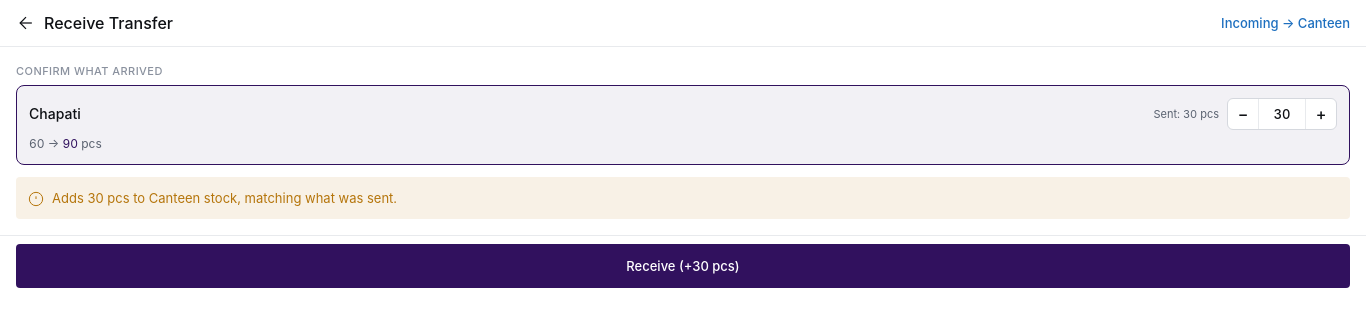
Test: /canteen/transfer/receive — kit composition › the resulting balance follows the stepper
This screenshot has width=1366, height=309.
Replace the text in the number field named "Chapati quantity" with "10" at (1282, 114), box [1274, 106, 1290, 122]
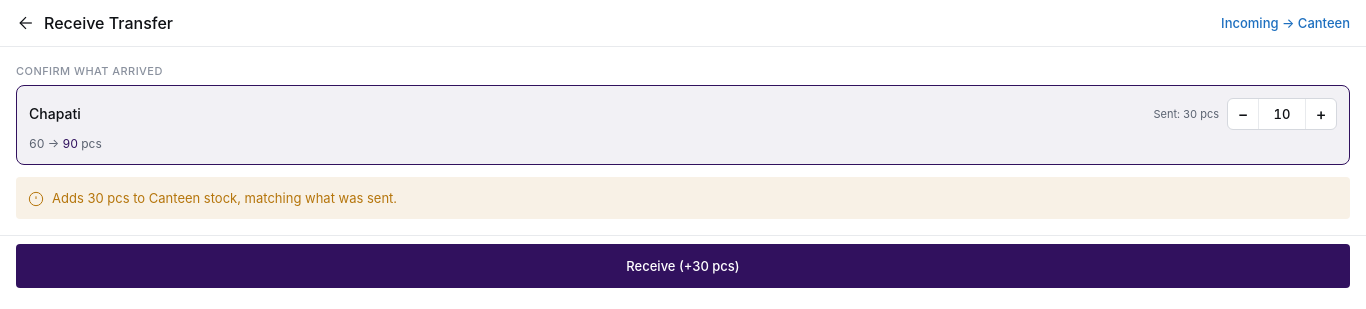
Press Tab
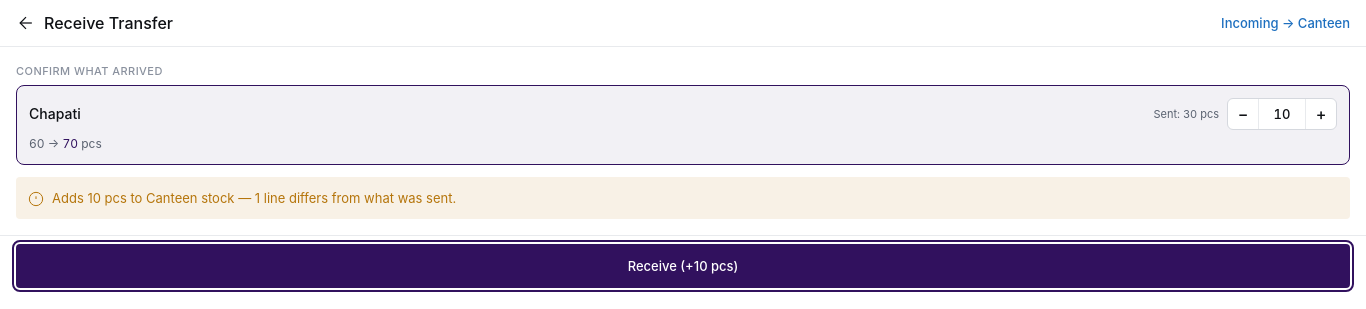
Expected: the element named "60 pcs on hand, 70 pcs after this" is shown, [29, 136, 102, 151]
